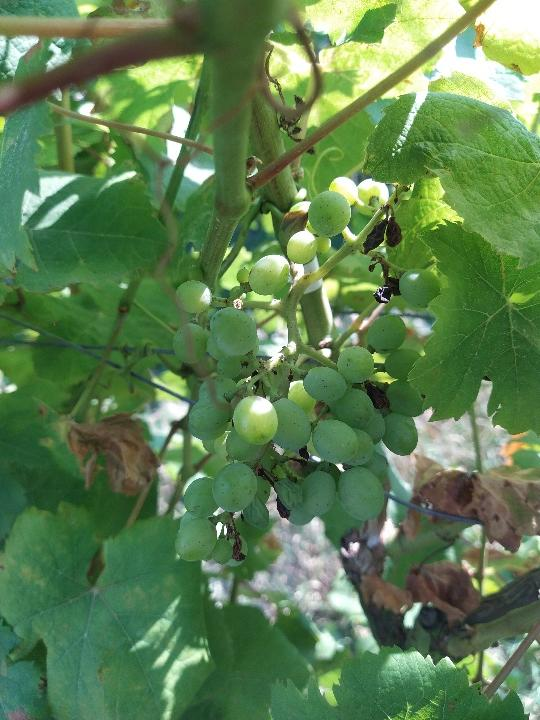grape: (169, 177, 442, 574)
